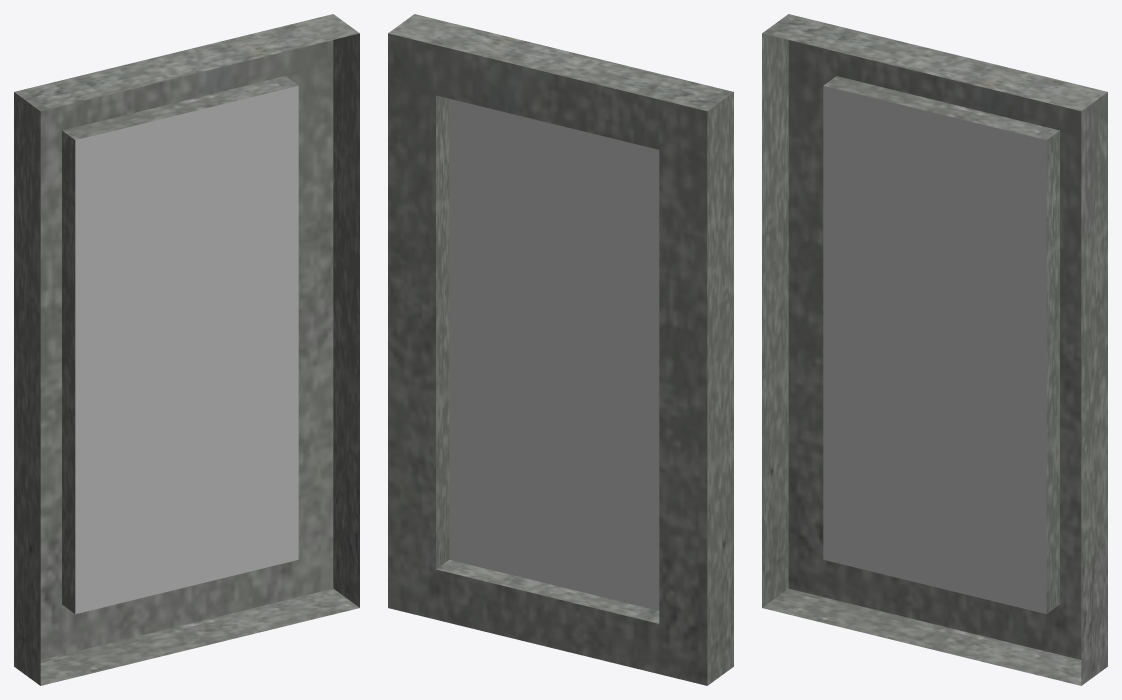
File: windowSmall_typeA.dae
The picture shows the model from 3 angles, left to right: view 1: azimuth 30°, elevation 25°; view 2: azimuth 150°, elevation 25°; view 3: azimuth 330°, elevation 25°; orthographic projection.
Parts seen in each view (by area): view 1: windowSmall_typeA; view 2: windowSmall_typeA; view 3: windowSmall_typeA.
Part boxes in pixels (box(x1,y1,x2,y2)): windowSmall_typeA: box(14, 14, 359, 685); windowSmall_typeA: box(388, 14, 733, 685); windowSmall_typeA: box(762, 14, 1107, 685).
Bounding box in the file's own units: 0.3478 × 0.5978 × 0.05.
